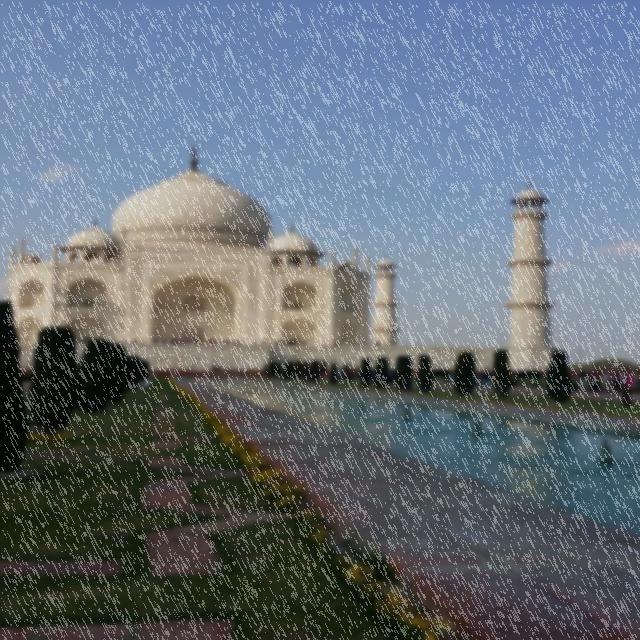pessoa: (148, 338, 240, 344), (600, 370, 619, 396), (586, 372, 604, 394), (478, 369, 496, 388), (342, 362, 360, 380), (624, 370, 639, 390), (598, 364, 632, 372), (621, 390, 633, 410), (470, 371, 483, 388), (612, 371, 622, 389), (444, 370, 456, 384), (388, 368, 397, 386), (366, 340, 390, 346), (575, 369, 589, 379), (619, 372, 627, 389), (368, 366, 376, 383), (334, 368, 344, 381), (404, 342, 430, 347), (144, 377, 156, 387), (391, 367, 399, 382), (584, 366, 596, 376), (250, 340, 279, 344), (284, 338, 298, 346), (482, 362, 490, 372), (323, 370, 331, 380), (566, 375, 576, 382), (213, 363, 220, 371), (360, 339, 366, 347), (278, 339, 284, 346), (130, 338, 137, 344), (108, 338, 114, 344), (118, 340, 124, 346), (138, 338, 144, 344), (301, 340, 307, 346), (239, 339, 244, 346), (79, 340, 87, 344), (320, 341, 328, 345), (111, 340, 118, 344), (333, 342, 340, 346), (124, 340, 130, 344)
